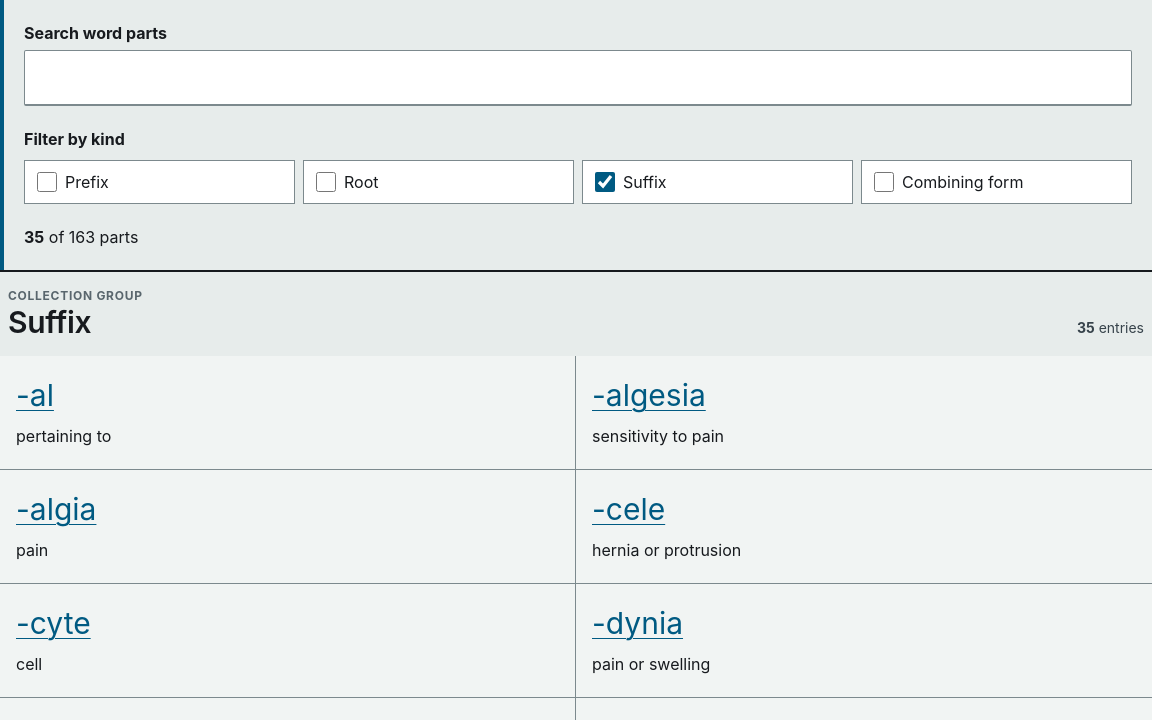
Test: word parts progressive enhancement › Given unmatched filters, when reset is activated, then the collection and keyboard focus recover
Step 1. Type "quartz" into the search field labelled "Search word parts" → (578, 78), box [24,50,1132,106]
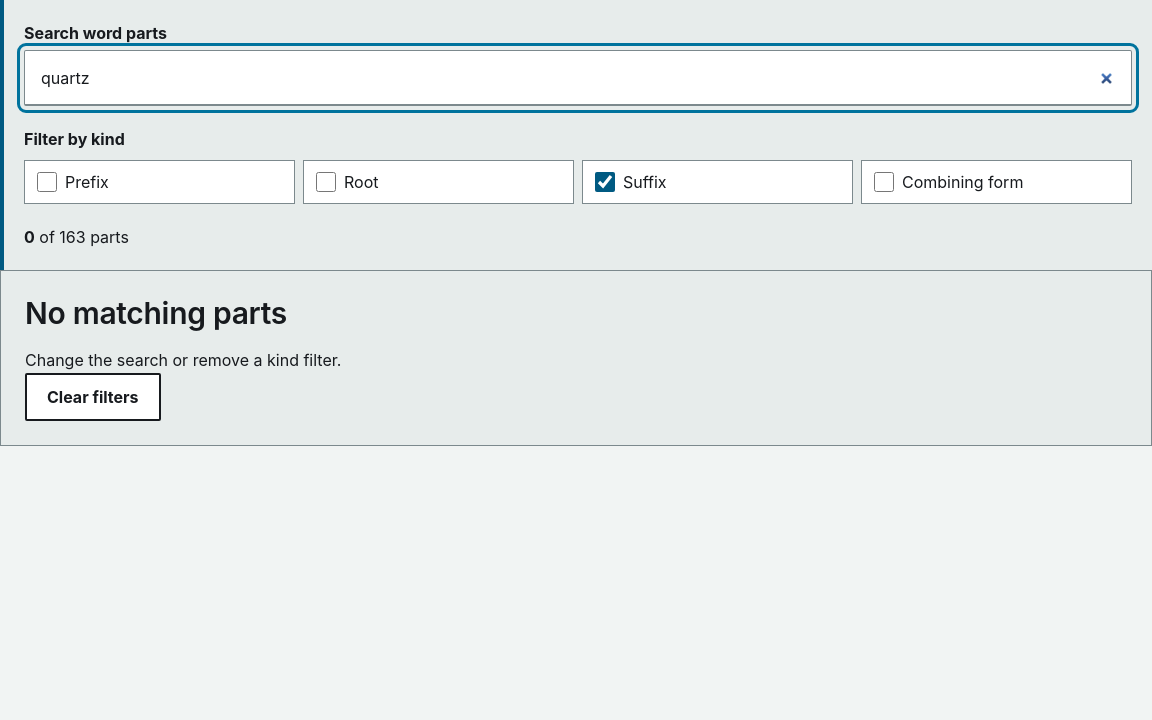
Check: the element with test id "no-results" is shown, box [0,270,1151,446]
Step 2. Click the button "Clear filters" → click(93, 397), box [25,373,161,421]
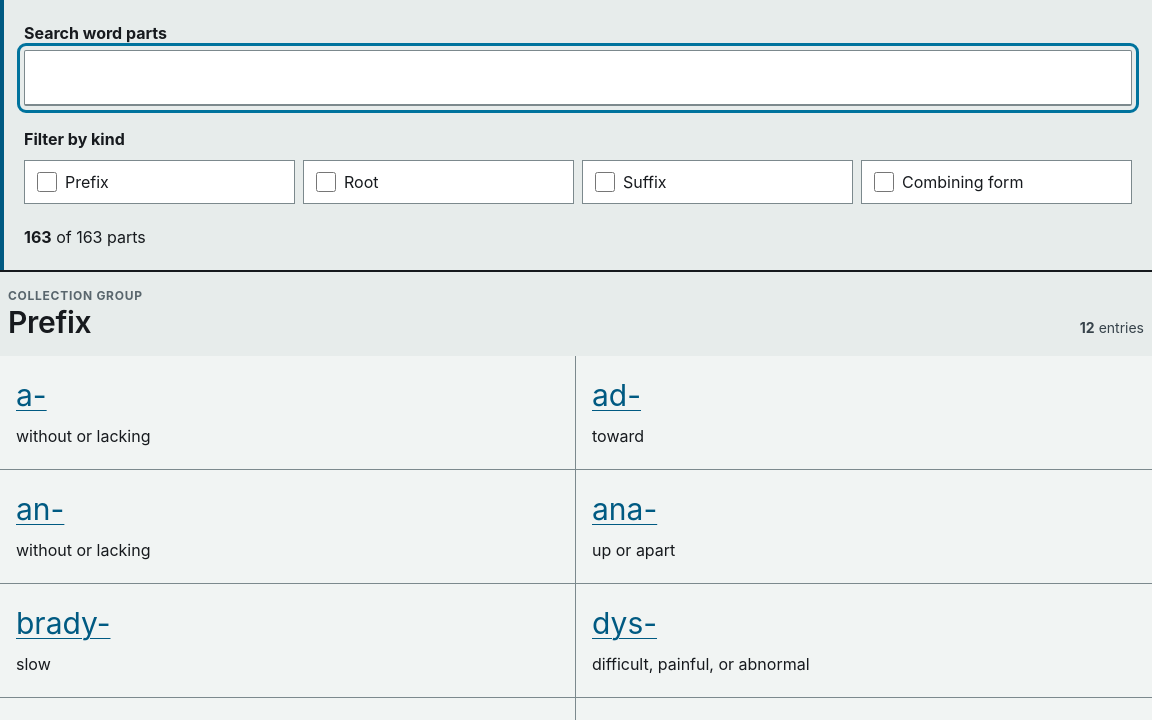
Check: the element with test id "no-results" is gone
